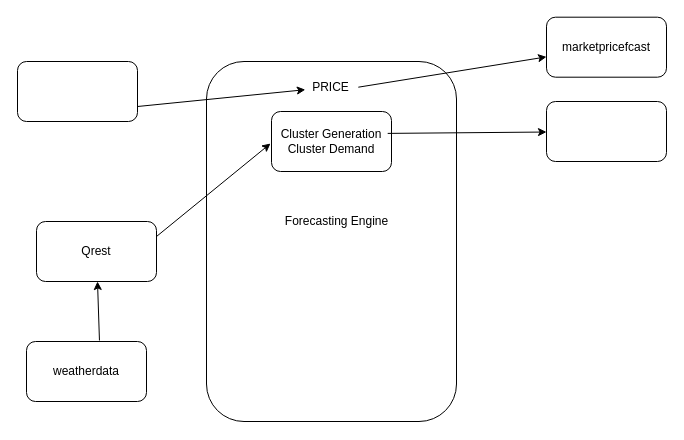
Some shapes in this 684 by 440 pixel diagram are drawn without their labels. Each missing label, with the centre of its shape:
"cforecast" belongs at (606,131).
"loadforecast windforecast" belongs at (77,91).
